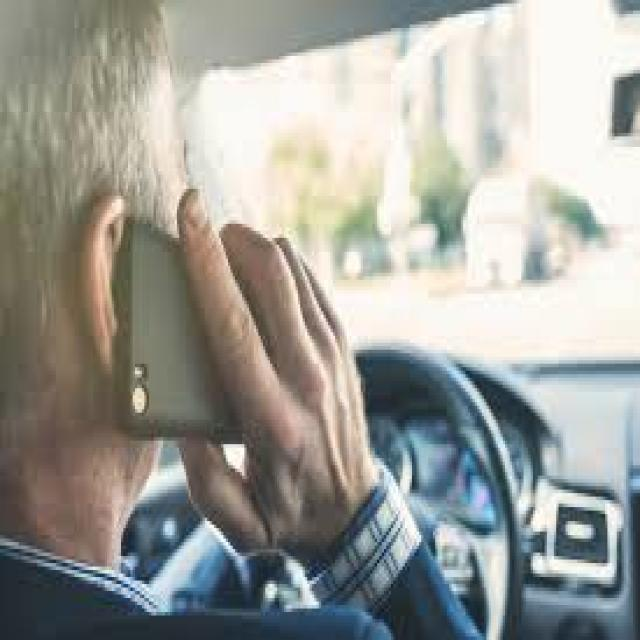Cellphone_calling: (75, 175, 368, 549)
